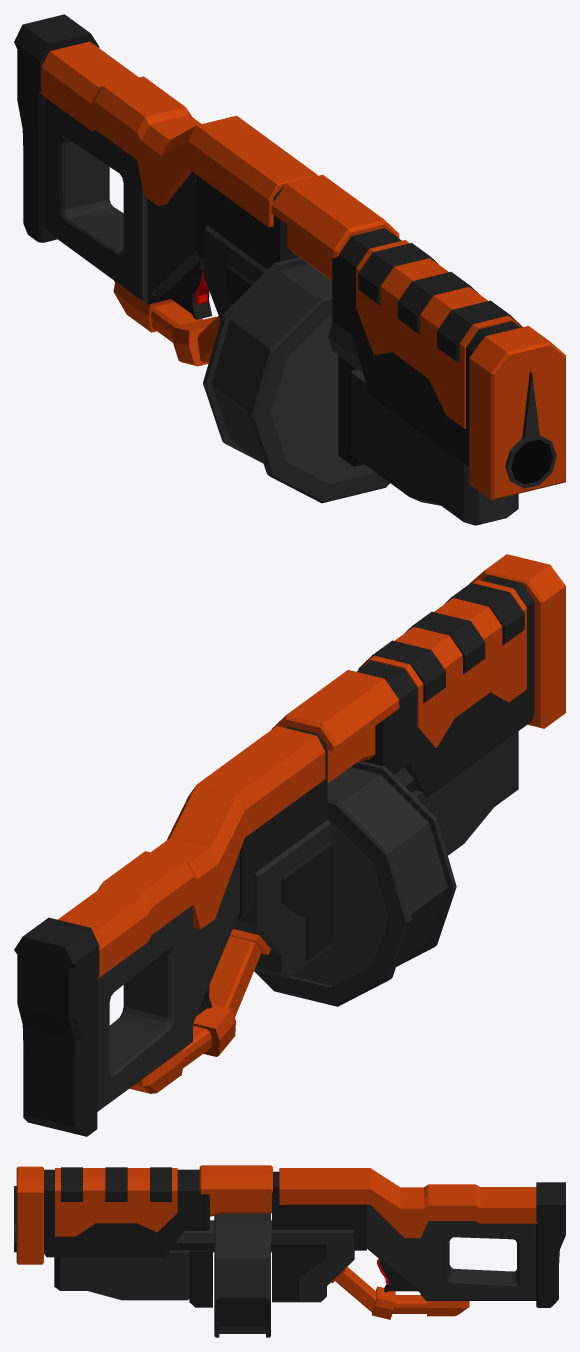
Rendered from GrenadeLauncher.fbx.
3 renders of one model, top to bottom at view 1: azimuth 30°, elevation 25°; view 2: azimuth 150°, elevation 25°; view 3: azimuth 270°, elevation 25°, orthographic. The views are drawn at different scales.
Visible parts, largest first — view 1: GrenadeLauncher; view 2: GrenadeLauncher; view 3: GrenadeLauncher.
Part boxes in pixels (x1,y1,x2,y2): GrenadeLauncher: (14,14,565,525); GrenadeLauncher: (14,554,565,1136); GrenadeLauncher: (14,1165,565,1337).
Size of the model in its own units: 22.91 by 29.79 by 94.05.
